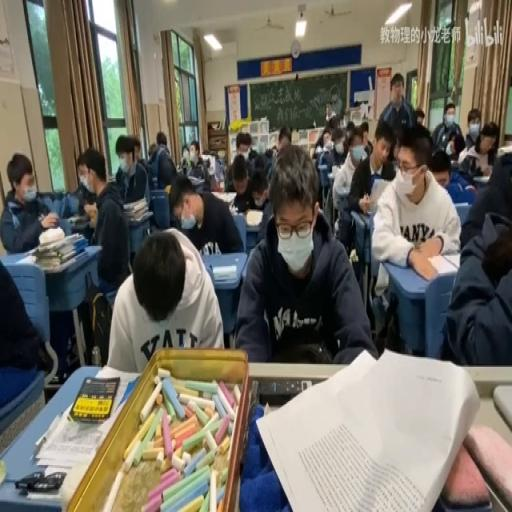calculator: (256, 343, 475, 509), (33, 408, 109, 468), (34, 250, 86, 273), (35, 229, 83, 250), (116, 376, 139, 410), (426, 252, 458, 276), (122, 195, 148, 222), (367, 176, 389, 206), (210, 262, 237, 280), (211, 188, 236, 205), (14, 253, 37, 265), (6, 199, 22, 215), (496, 142, 512, 156), (354, 208, 370, 219), (473, 174, 490, 184), (67, 215, 87, 223), (228, 200, 237, 214), (326, 169, 334, 181), (106, 174, 116, 182), (450, 158, 458, 168)
paper: (233, 145, 374, 366), (367, 125, 460, 341), (107, 228, 224, 372), (0, 150, 72, 372), (438, 212, 510, 367), (168, 171, 242, 256), (50, 150, 103, 234), (94, 199, 129, 293), (378, 72, 414, 150), (114, 134, 150, 206), (461, 119, 499, 175), (430, 101, 464, 158), (226, 154, 257, 214), (252, 172, 278, 242), (348, 154, 374, 210), (184, 138, 213, 186), (154, 148, 177, 190), (429, 148, 452, 188), (312, 118, 334, 155), (331, 124, 347, 165), (413, 122, 432, 148), (359, 119, 371, 151), (277, 125, 290, 149), (391, 135, 401, 164), (466, 108, 480, 128), (252, 154, 266, 172), (132, 137, 142, 162), (209, 172, 221, 192), (236, 139, 250, 155), (390, 75, 403, 91), (444, 100, 456, 116), (147, 141, 158, 158), (344, 121, 354, 139), (414, 108, 424, 125), (156, 130, 166, 146), (465, 132, 474, 148), (264, 145, 274, 158), (248, 148, 257, 161)
person: (69, 376, 120, 422), (16, 469, 66, 491)
